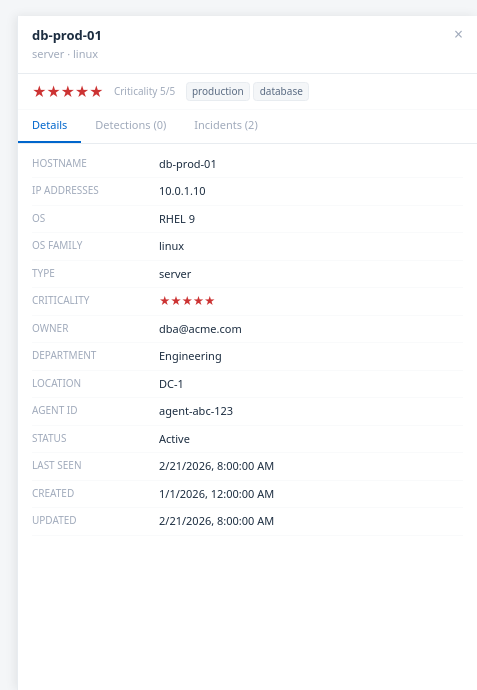
it: AssetPanel › Detections tab › shows empty state when no detections
This screenshot has width=477, height=690.
Click the button "Detections (0)".
click(131, 127)  # box [81,110,180,143]
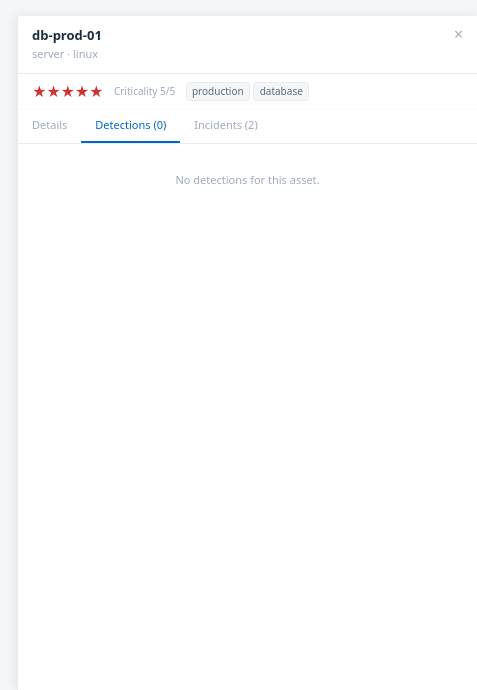
Expected: the text "No detections for this asset." is shown, [175,172,320,187]
